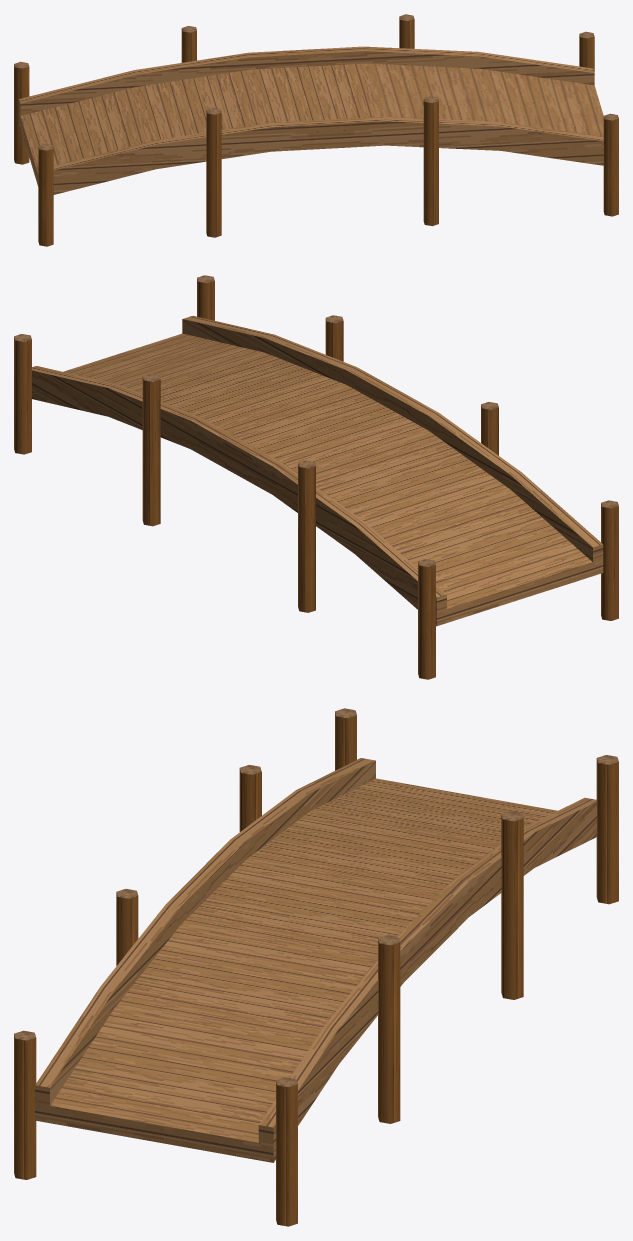
3 renders of one model, top to bottom at view 1: azimuth 30°, elevation 25°; view 2: azimuth 150°, elevation 25°; view 3: azimuth 270°, elevation 25°, orthographic. The views are drawn at different scales.
Visible parts, largest first — view 1: defaultMaterial.035; view 2: defaultMaterial.035; view 3: defaultMaterial.035.
Boxes of the visible parts, x1,y1,x2,y2 form: defaultMaterial.035: (14, 14, 618, 246); defaultMaterial.035: (14, 275, 618, 679); defaultMaterial.035: (14, 708, 618, 1226).
Size of the model in its own units: 595 by 131 by 401.
1 material, 1 textured.
